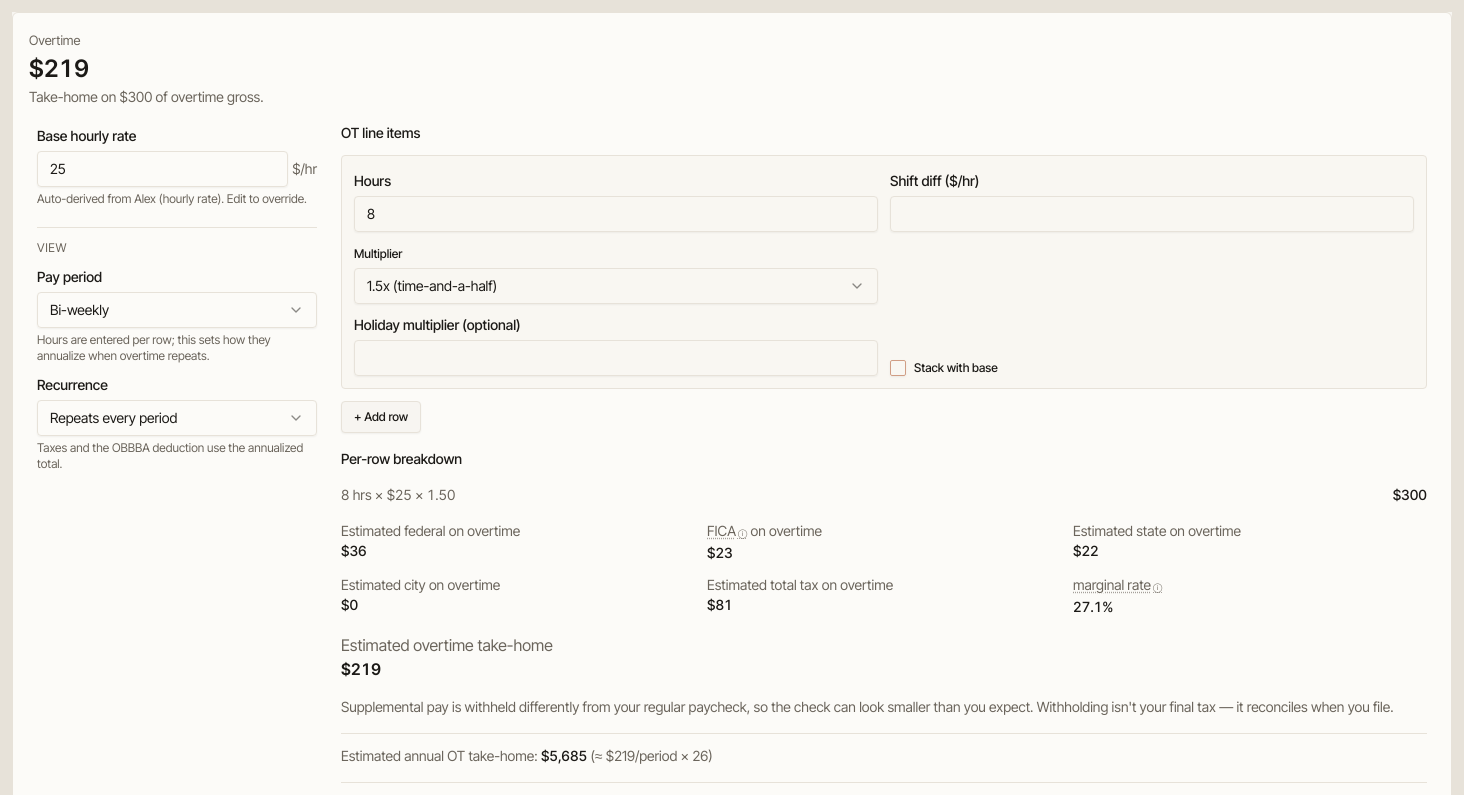
Test: OvertimeCard › ONE_OFF: neither the tax stack nor OBBBA annualizes
Expected: the text with test id "ot-takehome" is shown, [29,54,89,82]
Click the dropdown named "recurrence" at (177, 418), box [37,400,317,436]
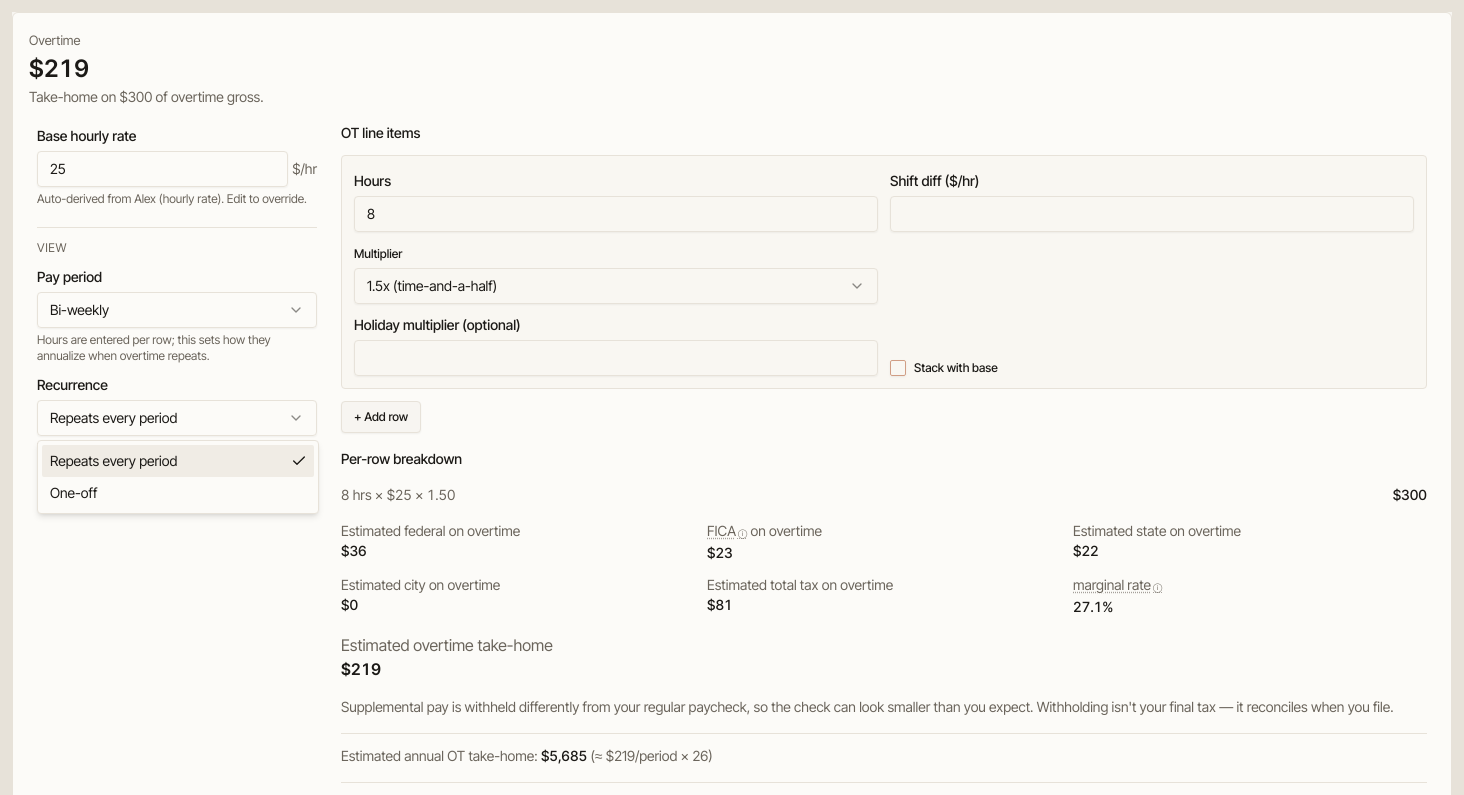
Click the option "One-off" at (74, 492), box [50,484,97,501]
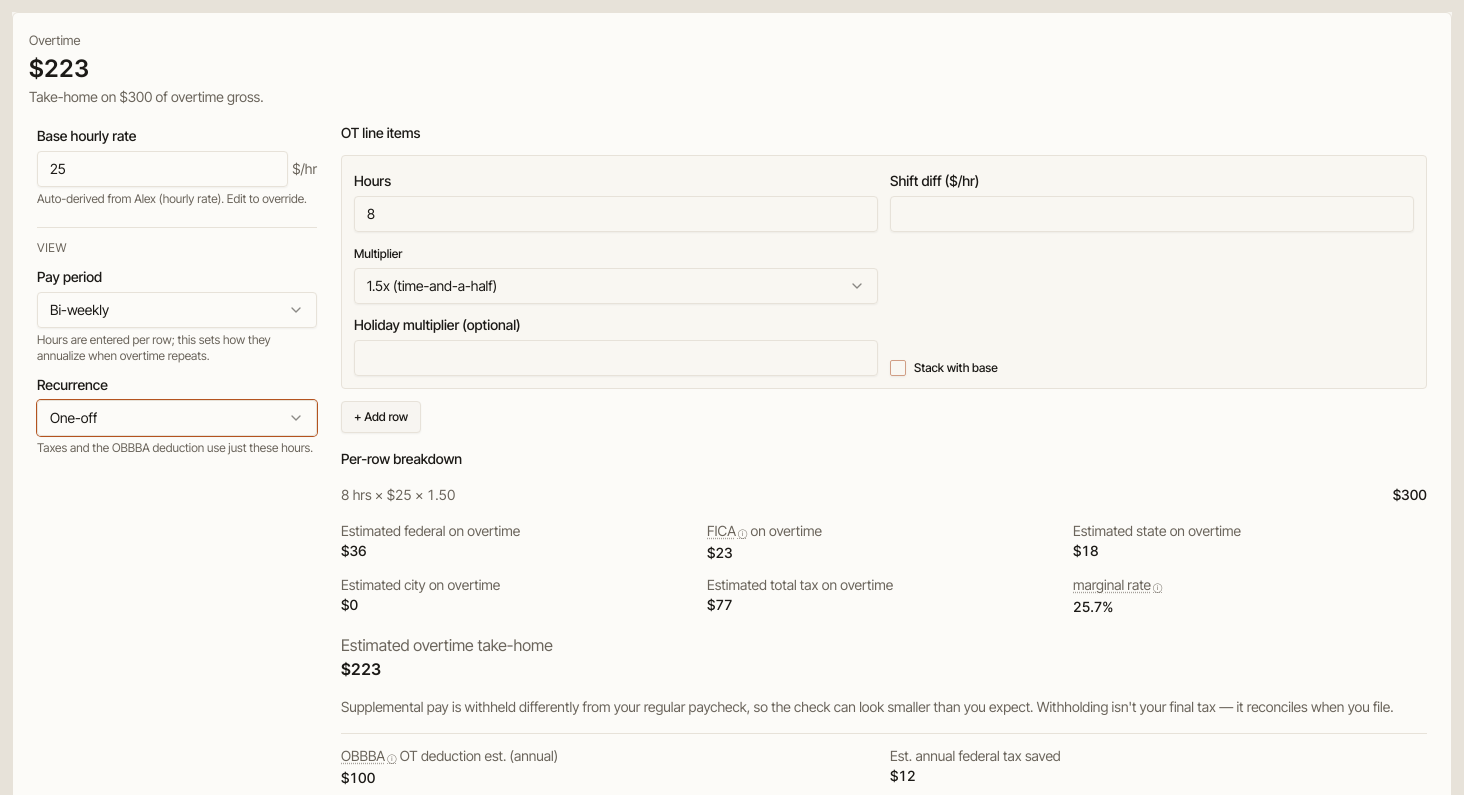
Expected: the text with test id "ot-takehome" reads "$223", [29,54,89,82]
Expected: the text "Estimated annual OT take-home" is gone
